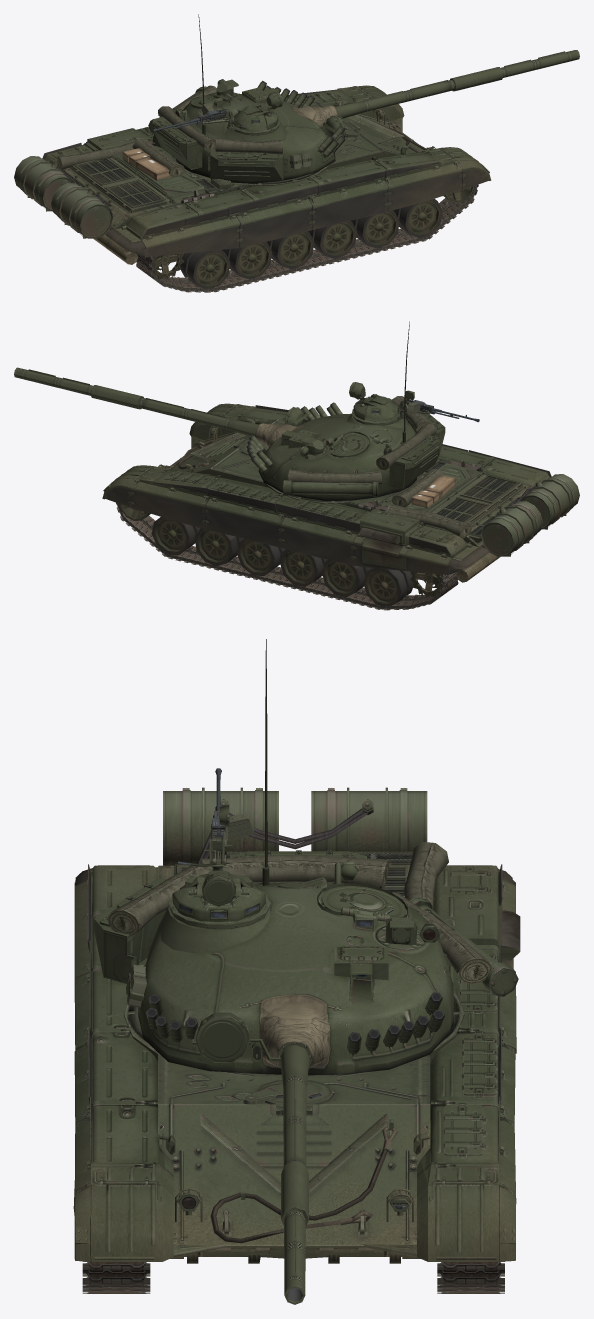
File: t-72a_obr._1980.glb
3 renders of one model, top to bottom at view 1: azimuth 30°, elevation 25°; view 2: azimuth 150°, elevation 25°; view 3: azimuth 270°, elevation 25°, orthographic. The views are drawn at different scales.
Parts seen in each view (by area): view 1: guard, turret, hullb, hull, gear4, track03, weapon, skirt3, skirt4, skirt2, skirt5, skirt8 (+29 smaller); view 2: guard, turret, gear4, hull, hullb, track2, weapon, skirt14, skirt12, skirt13, skirt11, gear8 (+29 smaller); view 3: guard, turret, hull, gear4, weapon, gear10, mount2, mount, object01_t72-a-1980-turret_7_0, gear9, track03, track2 (+9 smaller).
Boxes of the visible parts, bbox=[...] form: guard: bbox=[44, 85, 491, 250]; turret: bbox=[148, 79, 335, 183]; hullb: bbox=[61, 146, 217, 229]; hull: bbox=[63, 100, 435, 262]; gear4: bbox=[14, 156, 112, 238]; track03: bbox=[136, 165, 478, 292]; weapon: bbox=[335, 50, 579, 118]; skirt3: bbox=[309, 189, 387, 229]; skirt4: bbox=[237, 208, 311, 247]; skirt2: bbox=[385, 171, 462, 211]; skirt5: bbox=[145, 225, 239, 257]; skirt8: bbox=[228, 185, 317, 218]; guard: bbox=[102, 403, 549, 569]; turret: bbox=[258, 413, 445, 500]; gear4: bbox=[481, 474, 579, 556]; hull: bbox=[158, 418, 533, 580]; hullb: bbox=[385, 460, 533, 547]; track2: bbox=[116, 481, 458, 610]; weapon: bbox=[14, 367, 258, 437]; skirt14: bbox=[354, 537, 449, 575]; skirt12: bbox=[206, 507, 284, 547]; skirt13: bbox=[282, 526, 356, 565]; skirt11: bbox=[131, 490, 208, 529]; gear8: bbox=[386, 504, 472, 538]; guard: bbox=[74, 865, 516, 1261]; turret: bbox=[94, 850, 518, 1075]; hull: bbox=[123, 866, 464, 1263]; gear4: bbox=[163, 787, 427, 865]; weapon: bbox=[278, 1042, 312, 1304]; gear10: bbox=[200, 854, 389, 889]; mount2: bbox=[169, 872, 270, 925]; mount: bbox=[259, 1005, 330, 1067]; object01_t72-a-1980-turret_7_0: bbox=[192, 1012, 262, 1062]; gear9: bbox=[107, 865, 209, 935]; track03: bbox=[82, 1261, 150, 1293]; track2: bbox=[437, 1261, 504, 1293].
Bounding box in the file's own units: 10.02 × 4.28 × 3.64.
14 materials, 14 textured.
